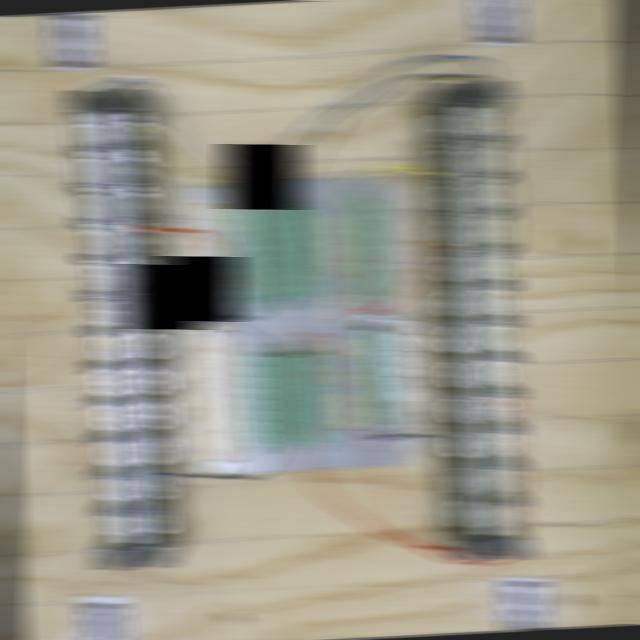Flathead_Block: (433, 80, 529, 561)
Phillips_Block: (68, 87, 172, 570)
Terminal_1: (349, 199, 386, 297), (358, 329, 393, 427)
Terminal_2: (289, 206, 326, 299), (269, 355, 305, 449), (297, 352, 333, 446), (260, 209, 296, 301), (231, 212, 266, 304)
